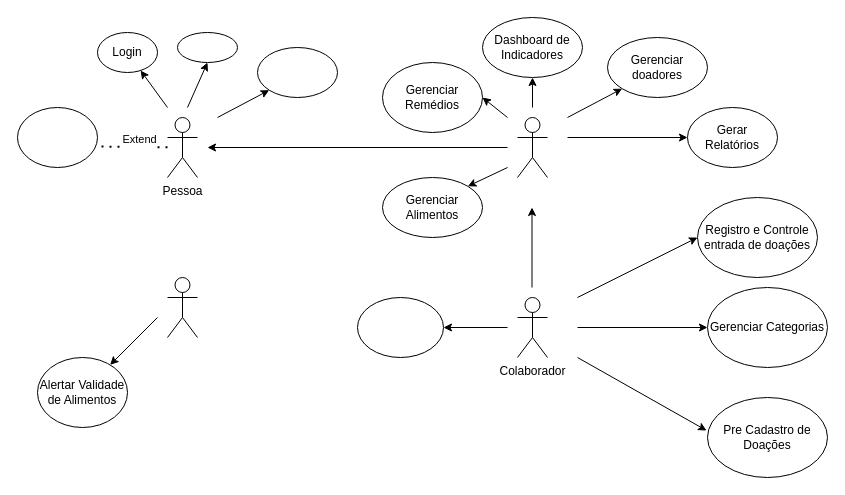
This 845x495 diagram has some shape labels left out. Here are the shapes that lost their labels. From the top down, the centre of each, then its label:
point (207, 47): Logout
point (297, 72): Gerenciar Usuários
point (57, 137): Recuperar Senha
point (532, 147): Administrador
point (182, 307): Sistema
point (400, 327): Consultar Estoque
